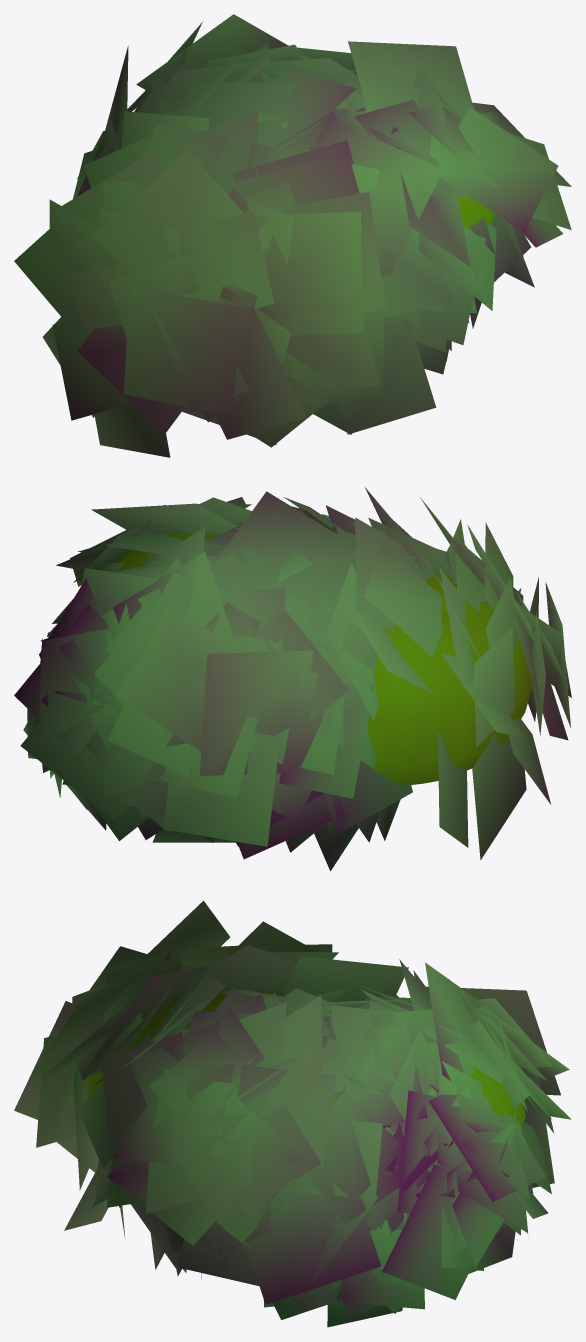
Rendered from bush_b.glb.
3 renders of one model, top to bottom at view 1: azimuth 30°, elevation 25°; view 2: azimuth 150°, elevation 25°; view 3: azimuth 270°, elevation 25°, orthographic. The views are drawn at different scales.
Parts seen in each view (by area): view 1: bush_b; view 2: bush_b; view 3: bush_b.
Boxes of the visible parts, x1=… form: bush_b: x1=14, y1=14, x2=571, y2=457; bush_b: x1=14, y1=487, x2=571, y2=871; bush_b: x1=14, y1=900, x2=571, y2=1327.
Size of the model in its own units: 1.48 by 0.9663 by 1.47.
